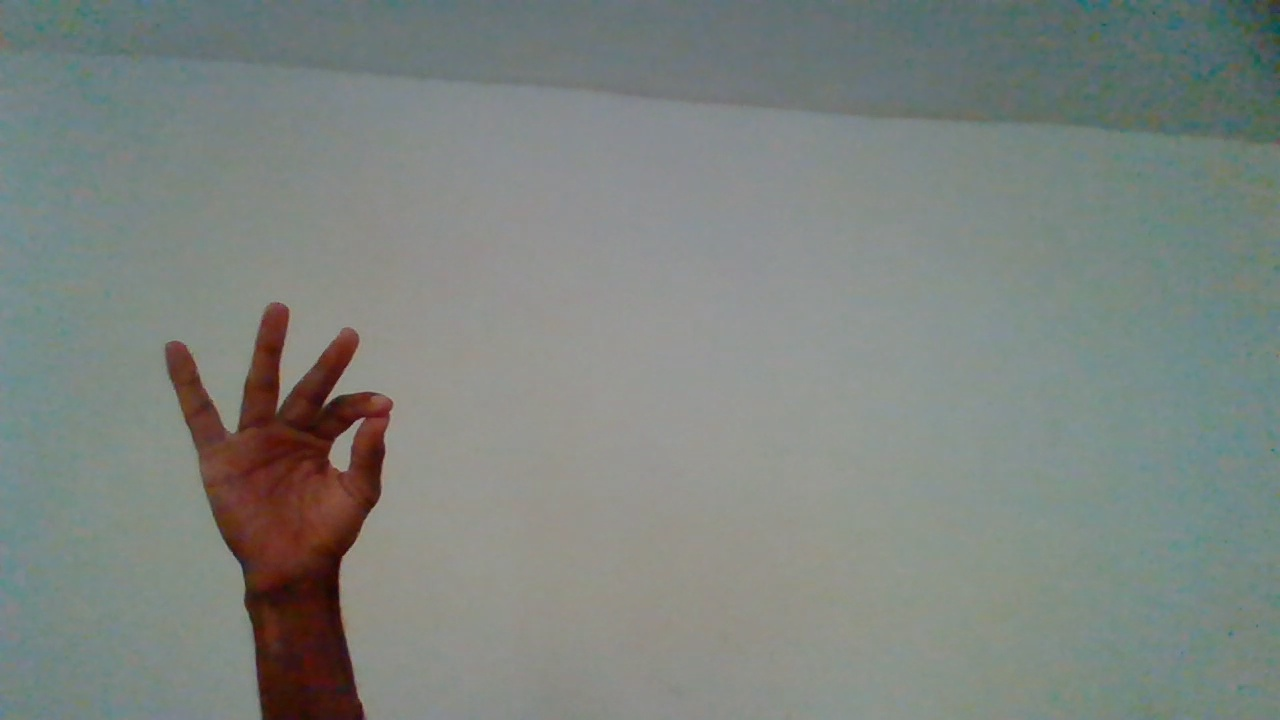le: (159, 305, 394, 694)
